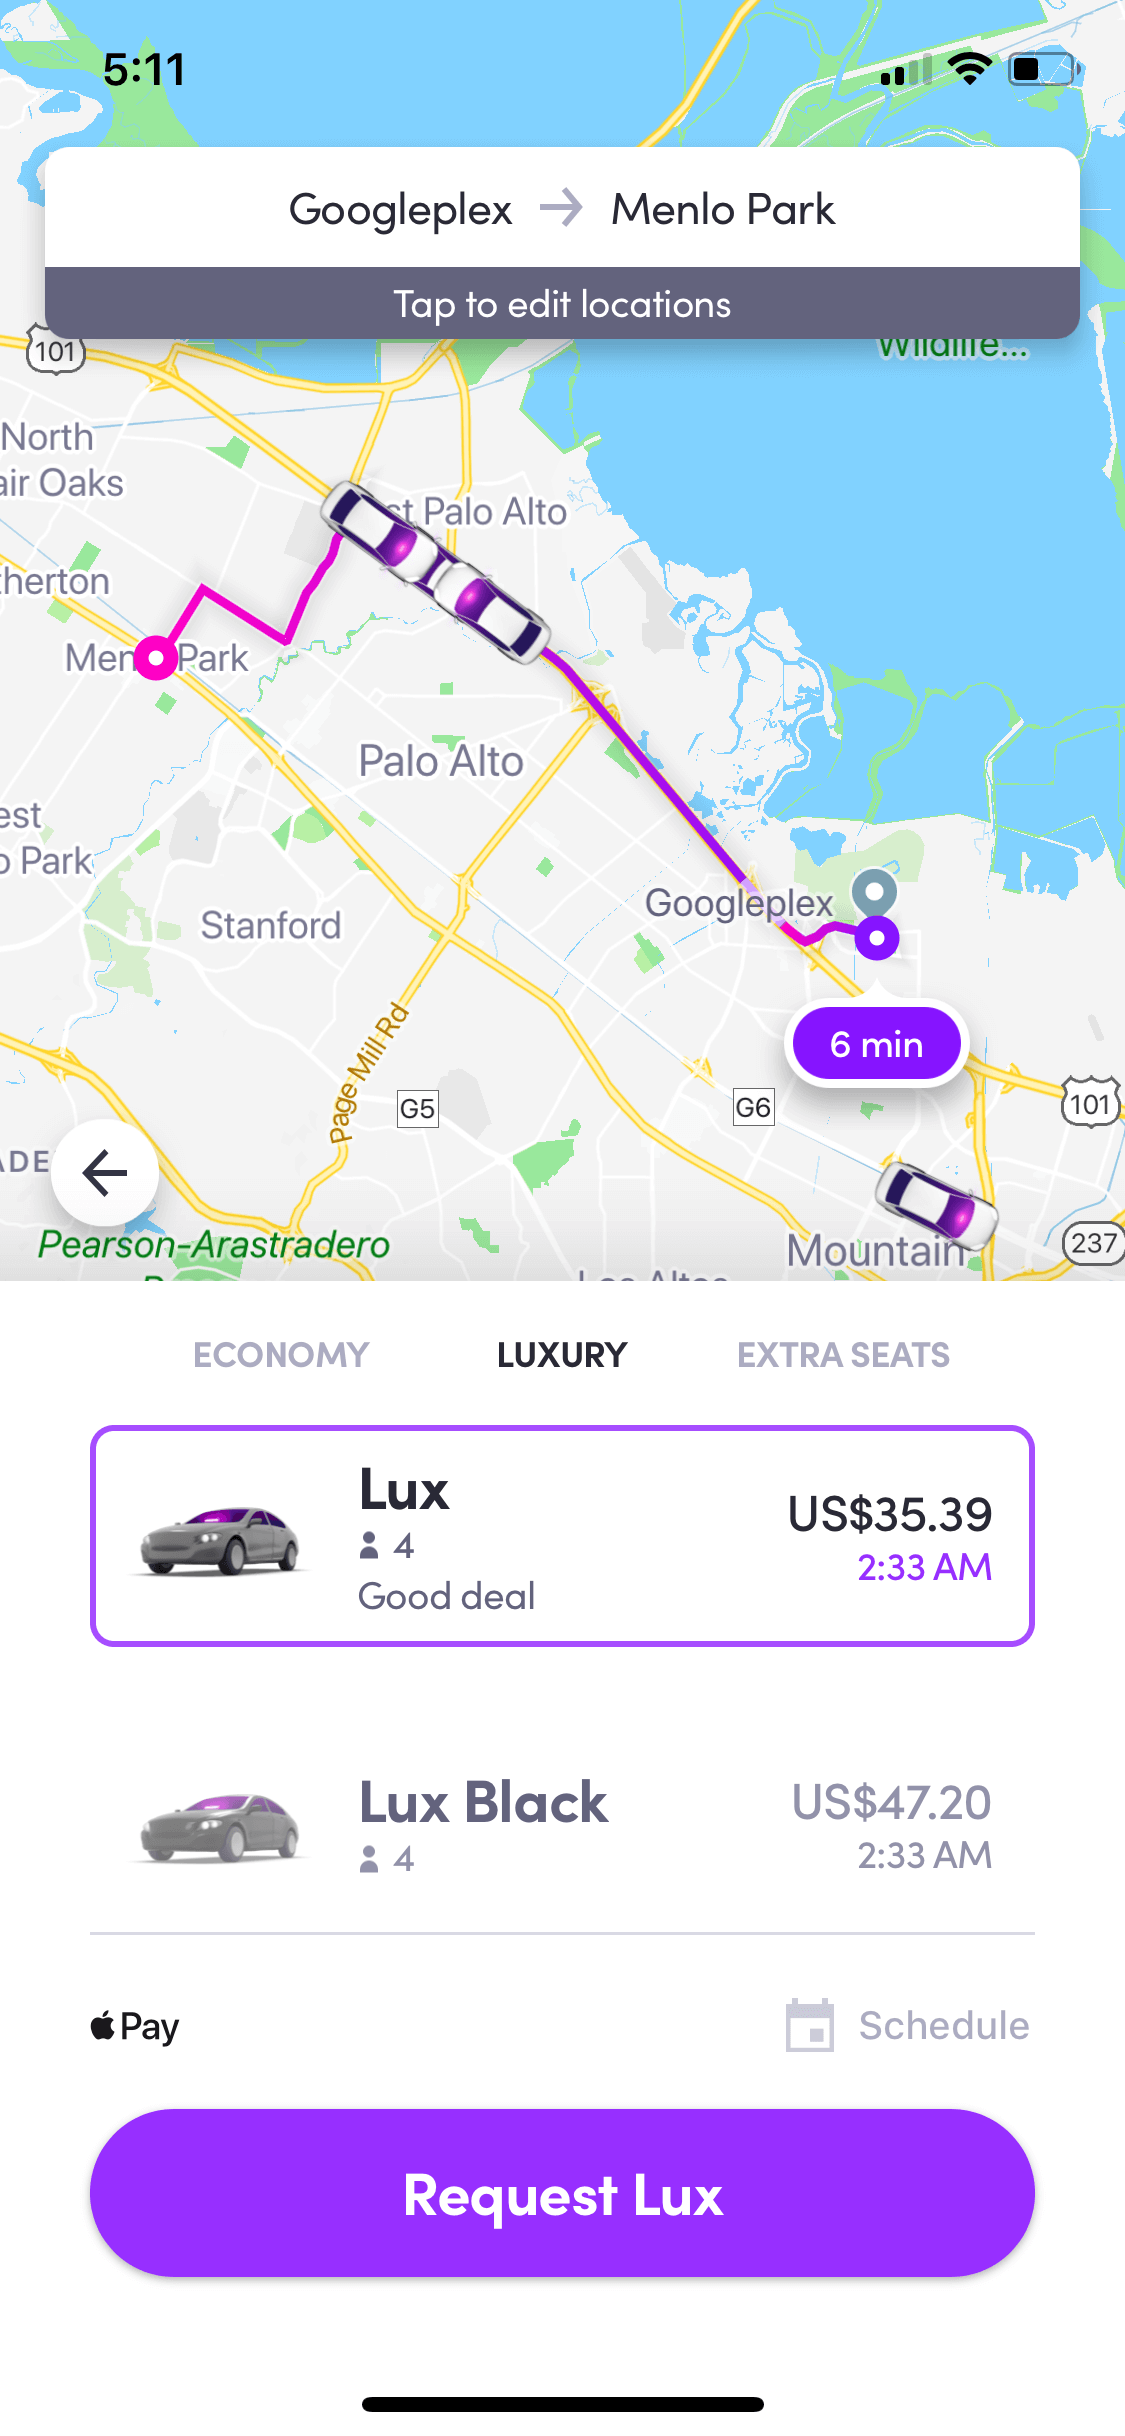Buttons: (78, 2099, 1052, 2293)
FAB (Floating Action Button): (765, 1964, 1046, 2068), (33, 1106, 183, 1237)
